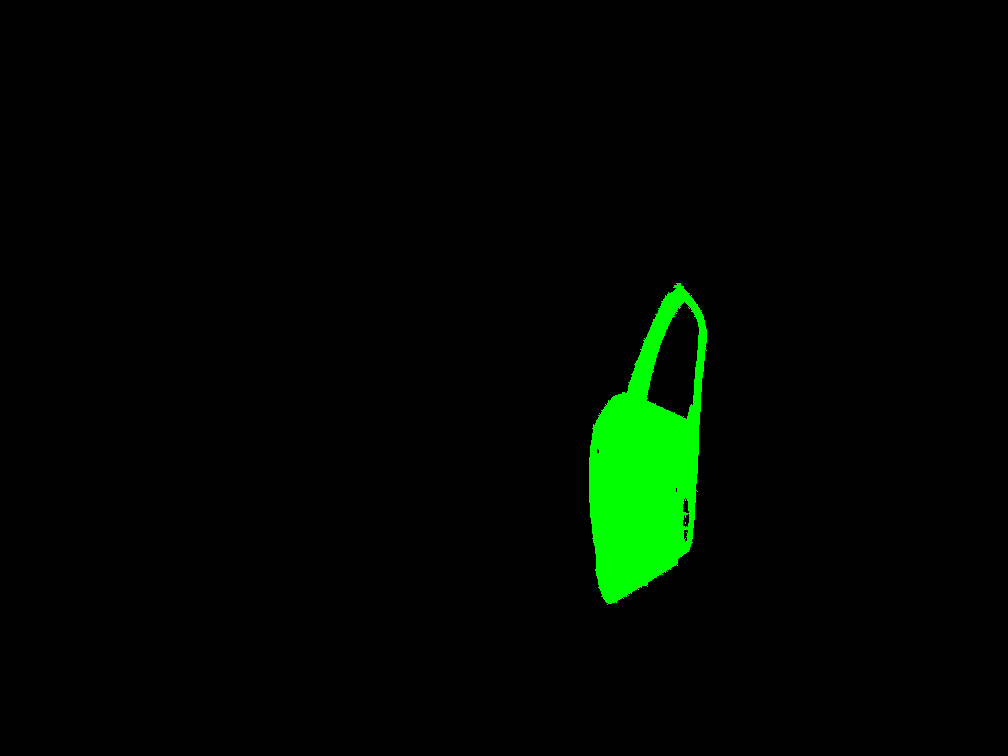car_door: (589, 283, 706, 604)
